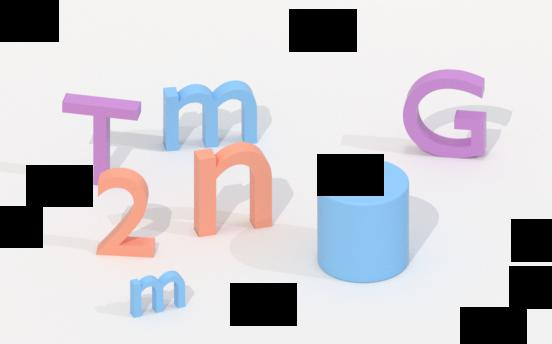2: (92, 163, 158, 266)
G-hoa: (401, 60, 490, 161)
m: (159, 77, 264, 153), (122, 266, 199, 326)
n: (186, 141, 278, 238)
t-hoa: (59, 83, 146, 189)
tru: (312, 152, 413, 289)
